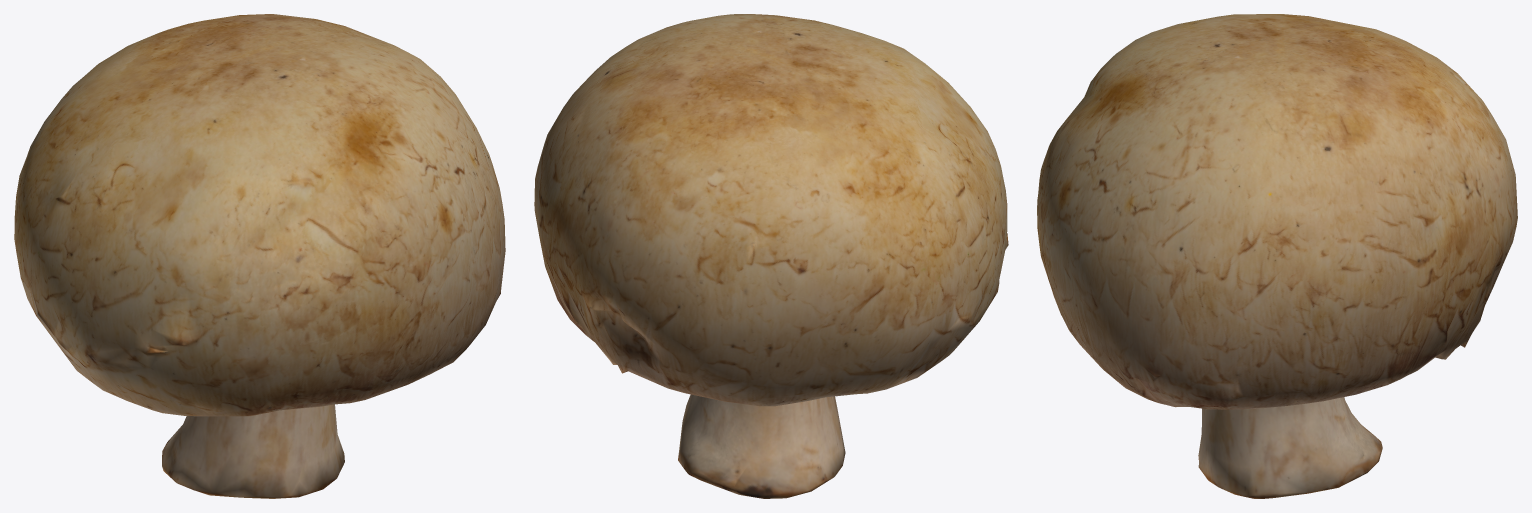
File: mushroom.glb
The picture shows the model from 3 angles, left to right: view 1: azimuth 30°, elevation 25°; view 2: azimuth 150°, elevation 25°; view 3: azimuth 270°, elevation 25°; orthographic projection. The views are drawn at different scales.
Visible parts, largest first — view 1: tfstfjhpa_LOD0_TIER2_000; view 2: tfstfjhpa_LOD0_TIER2_000; view 3: tfstfjhpa_LOD0_TIER2_000.
Part boxes in pixels (x1,y1,x2,y2): tfstfjhpa_LOD0_TIER2_000: (14,14,505,498); tfstfjhpa_LOD0_TIER2_000: (534,14,1008,498); tfstfjhpa_LOD0_TIER2_000: (1037,14,1517,498).
Bounding box in the file's own units: 0.0579 × 0.055 × 0.0564.
Materials: 1 (1 with a texture image).
